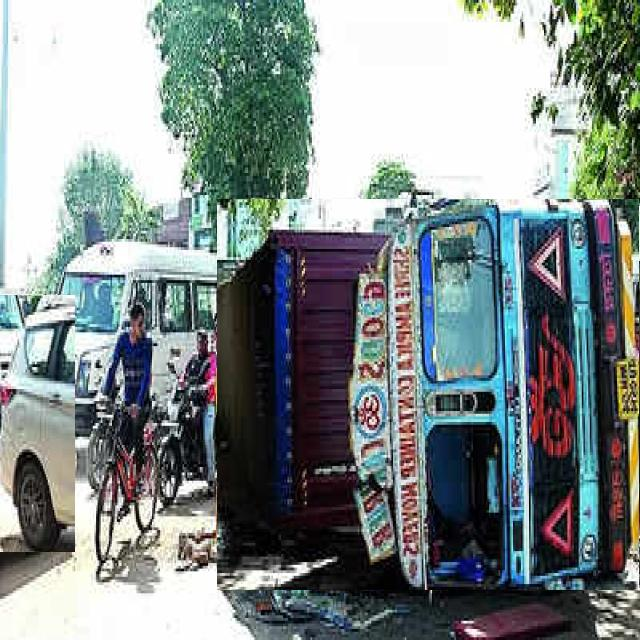accident: (218, 199, 639, 590)
bicycle: (95, 305, 156, 563)
bus: (51, 240, 224, 432)
car: (0, 296, 75, 552)
motorcycle: (159, 313, 221, 504)
